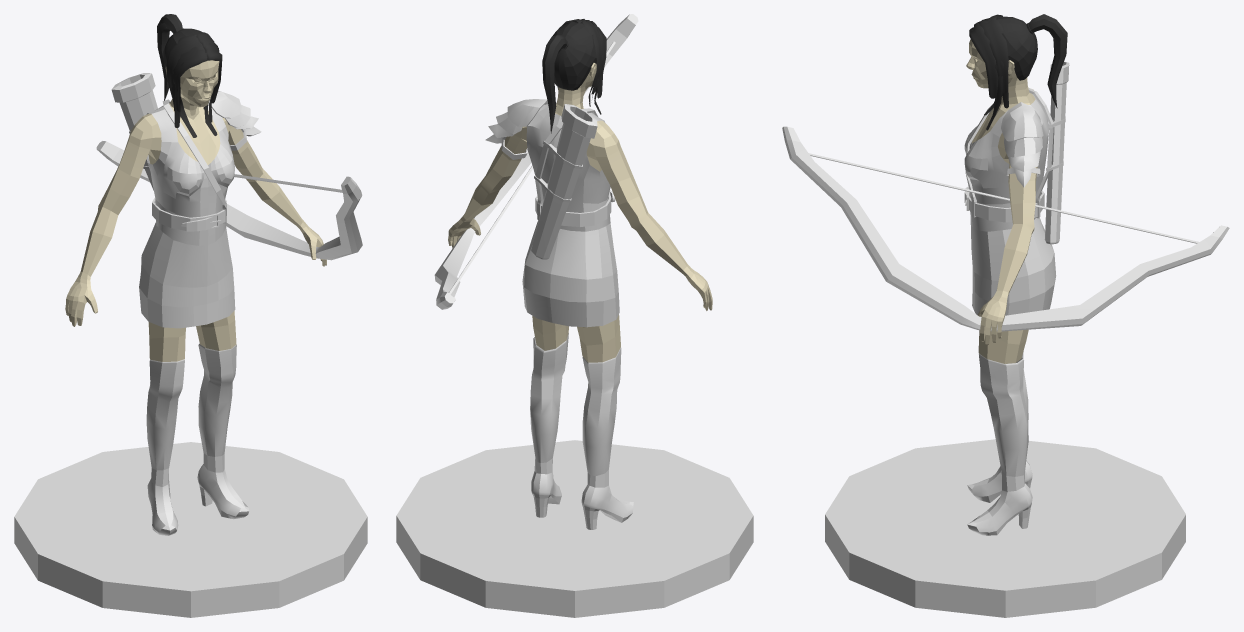
Rendered from archer_FBX.fbx.
The picture shows the model from 3 angles, left to right: view 1: azimuth 30°, elevation 25°; view 2: azimuth 150°, elevation 25°; view 3: azimuth 270°, elevation 25°; orthographic projection. The views are drawn at different scales.
Visible parts, largest first — view 1: archer_GEO; view 2: archer_GEO; view 3: archer_GEO.
Boxes of the visible parts, x1,y1,x2,y2 form: archer_GEO: (14, 14, 367, 617); archer_GEO: (396, 14, 753, 617); archer_GEO: (782, 14, 1229, 617).
Size of the model in its own units: 120 by 193 by 149.
